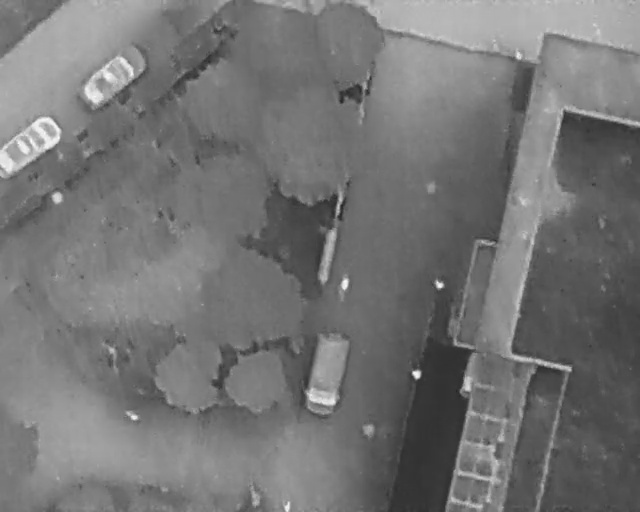Car: (74, 39, 153, 115), (0, 113, 62, 178)
OtherVehicle: (301, 329, 352, 420), (338, 273, 349, 300)
Person: (435, 275, 445, 291), (412, 365, 423, 378)
